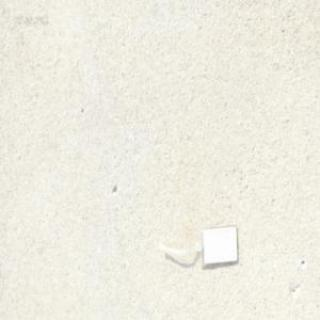LuggageTagtrack_idkeyframe: (155, 221, 237, 266)
